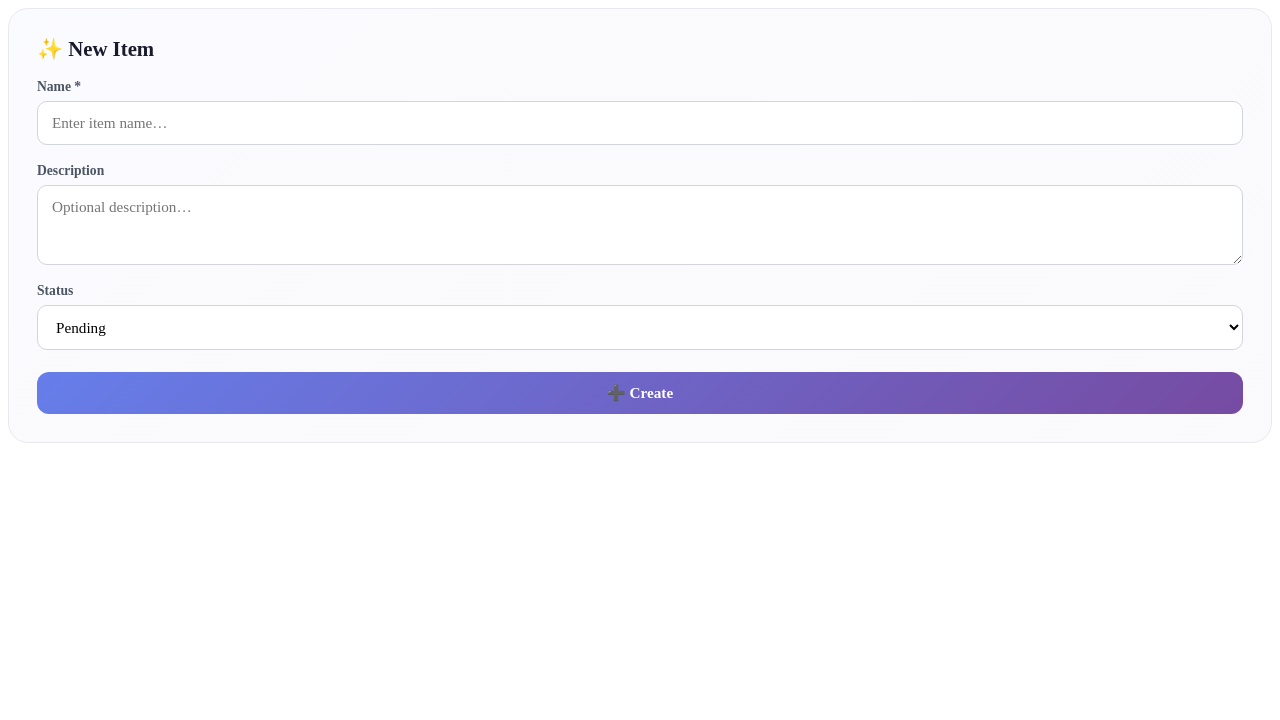
Test: ItemForm › shows error when submitting empty name
The width and height of the screenshot is (1280, 720).
Click the button "➕ Create". click: (640, 393)
box: [37,372,1243,414]
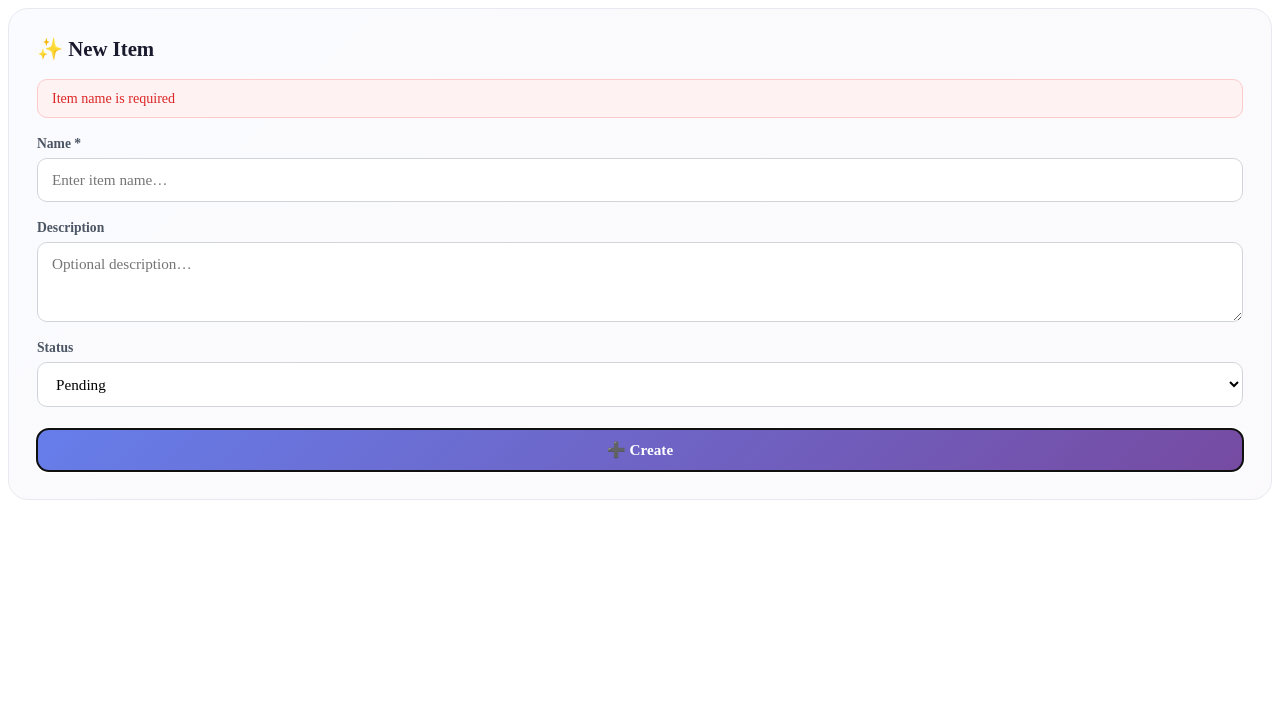
Now the text "Item name is required" is shown, box [37,79,1243,118]
